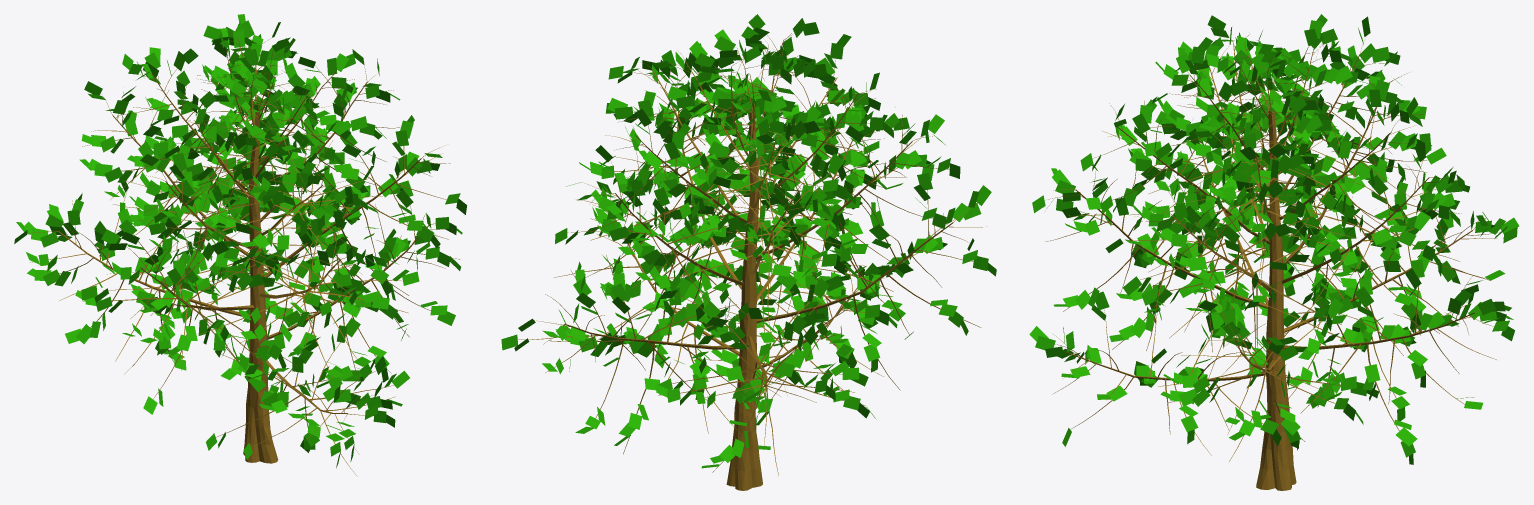
The model's file is tree.glb.
The picture shows the model from 3 angles, left to right: view 1: azimuth 30°, elevation 25°; view 2: azimuth 150°, elevation 25°; view 3: azimuth 270°, elevation 25°; orthographic projection. The views are drawn at different scales.
Parts seen in each view (by area): view 1: Foliage49; view 2: Foliage49; view 3: Foliage49.
Part boxes in pixels (x1,y1,x2,y2): Foliage49: (14,14,466,476); Foliage49: (501,14,996,490); Foliage49: (1029,14,1519,490).
Bounding box in the file's own units: 9256 × 10111 × 9786.
